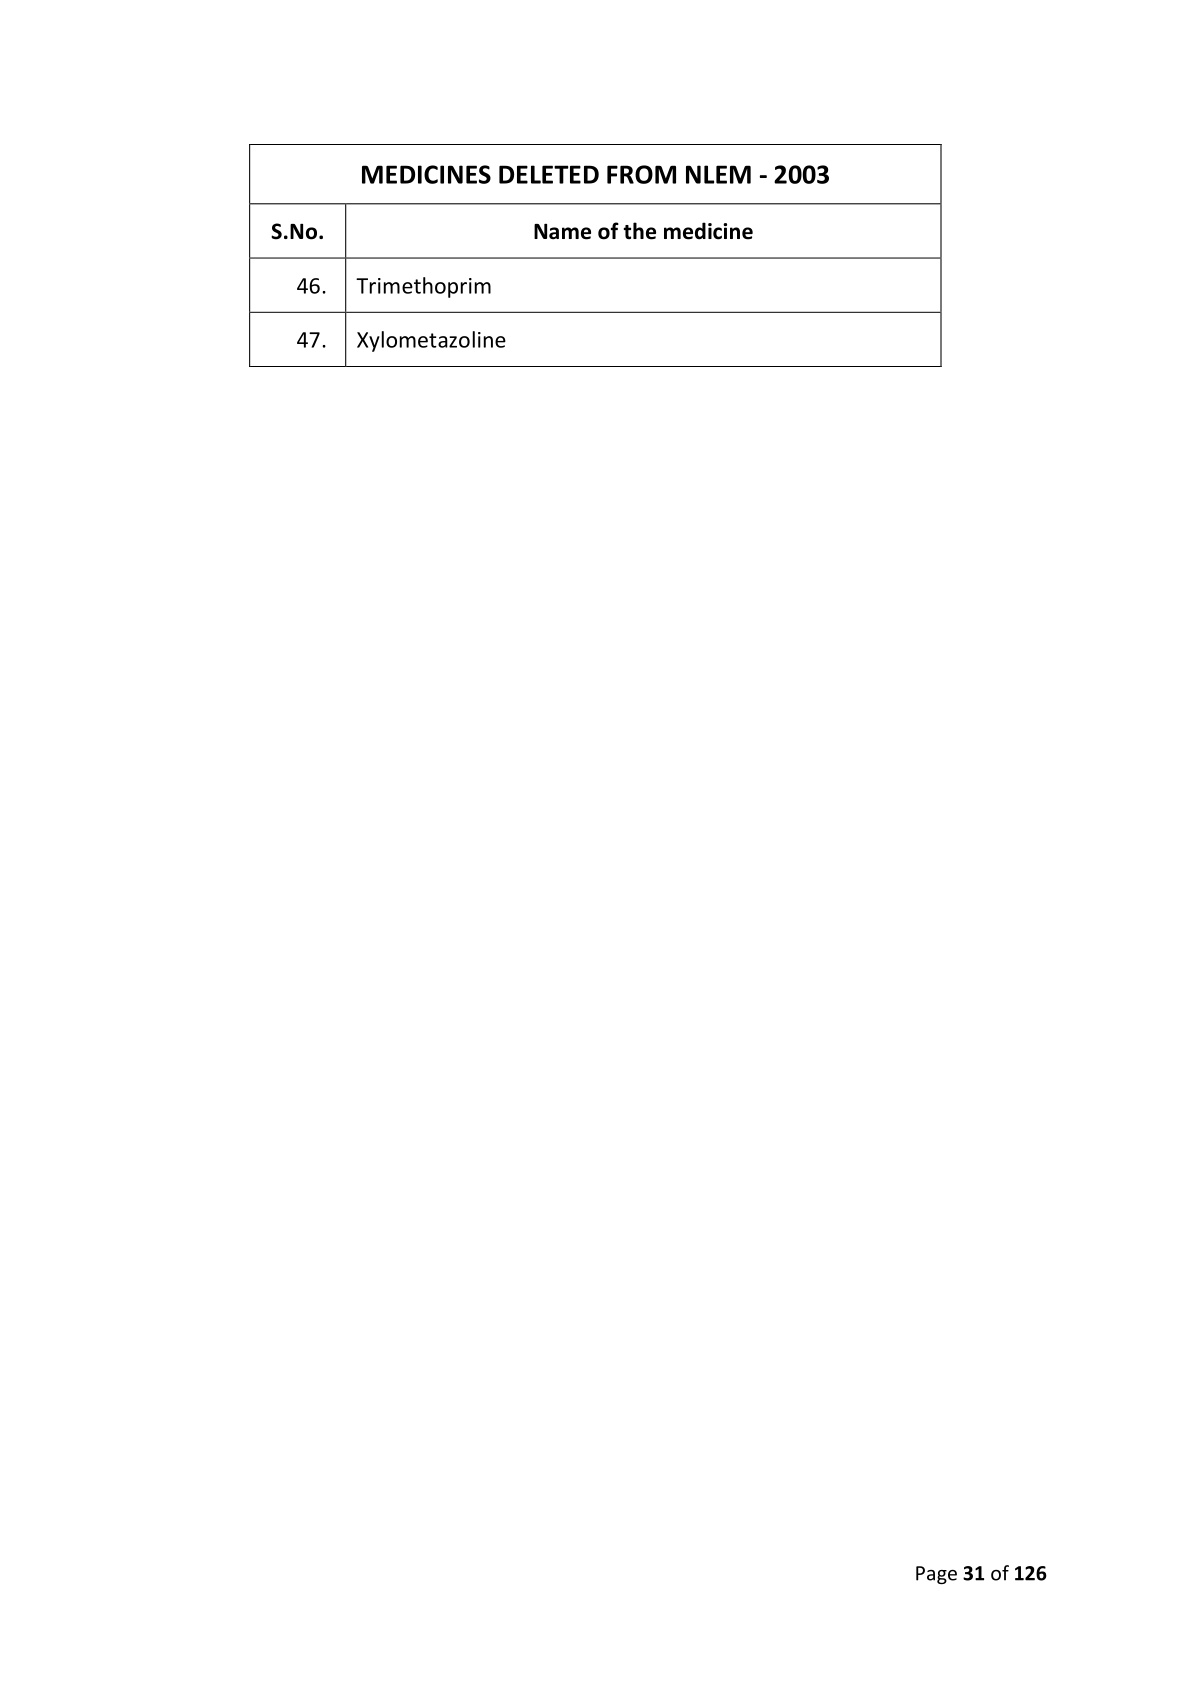merged_cells: (247, 142, 944, 368)
